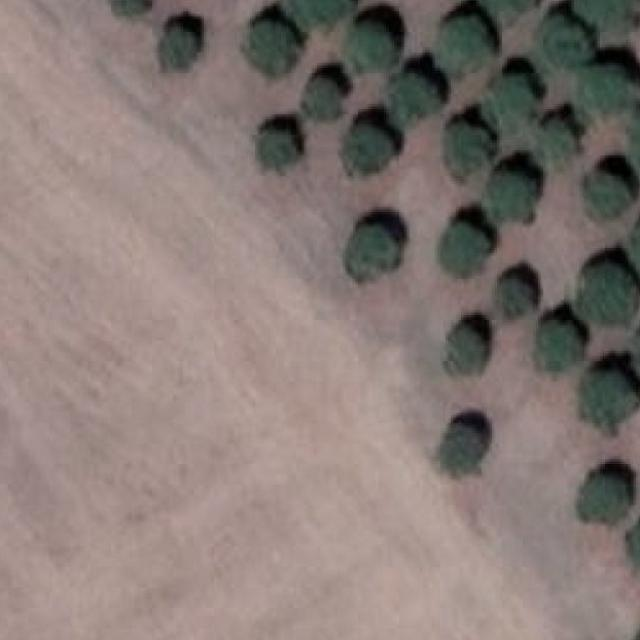Tree: (437, 15, 497, 80), (576, 263, 636, 323), (579, 63, 640, 122), (581, 366, 640, 426), (530, 14, 586, 71), (486, 76, 540, 133), (345, 227, 401, 279), (482, 171, 538, 222), (579, 168, 636, 217), (247, 22, 301, 73), (445, 122, 492, 179), (389, 73, 445, 119), (581, 471, 631, 521), (345, 25, 399, 71), (343, 124, 394, 171), (157, 22, 204, 73), (437, 425, 484, 474), (530, 117, 574, 169), (535, 318, 579, 369), (442, 328, 489, 375), (442, 224, 483, 274), (492, 277, 538, 321), (571, 0, 633, 32), (304, 73, 348, 117), (291, 0, 351, 30), (254, 130, 298, 168), (484, 0, 535, 22), (626, 112, 640, 173), (103, 0, 153, 16), (631, 520, 640, 577)
